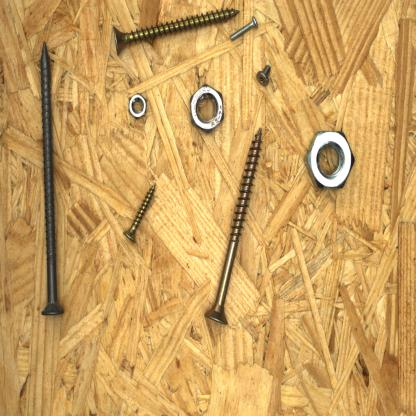screw: (202, 124, 264, 329), (37, 38, 67, 319), (111, 6, 242, 58), (120, 179, 158, 246), (228, 14, 260, 42), (253, 63, 273, 88)
